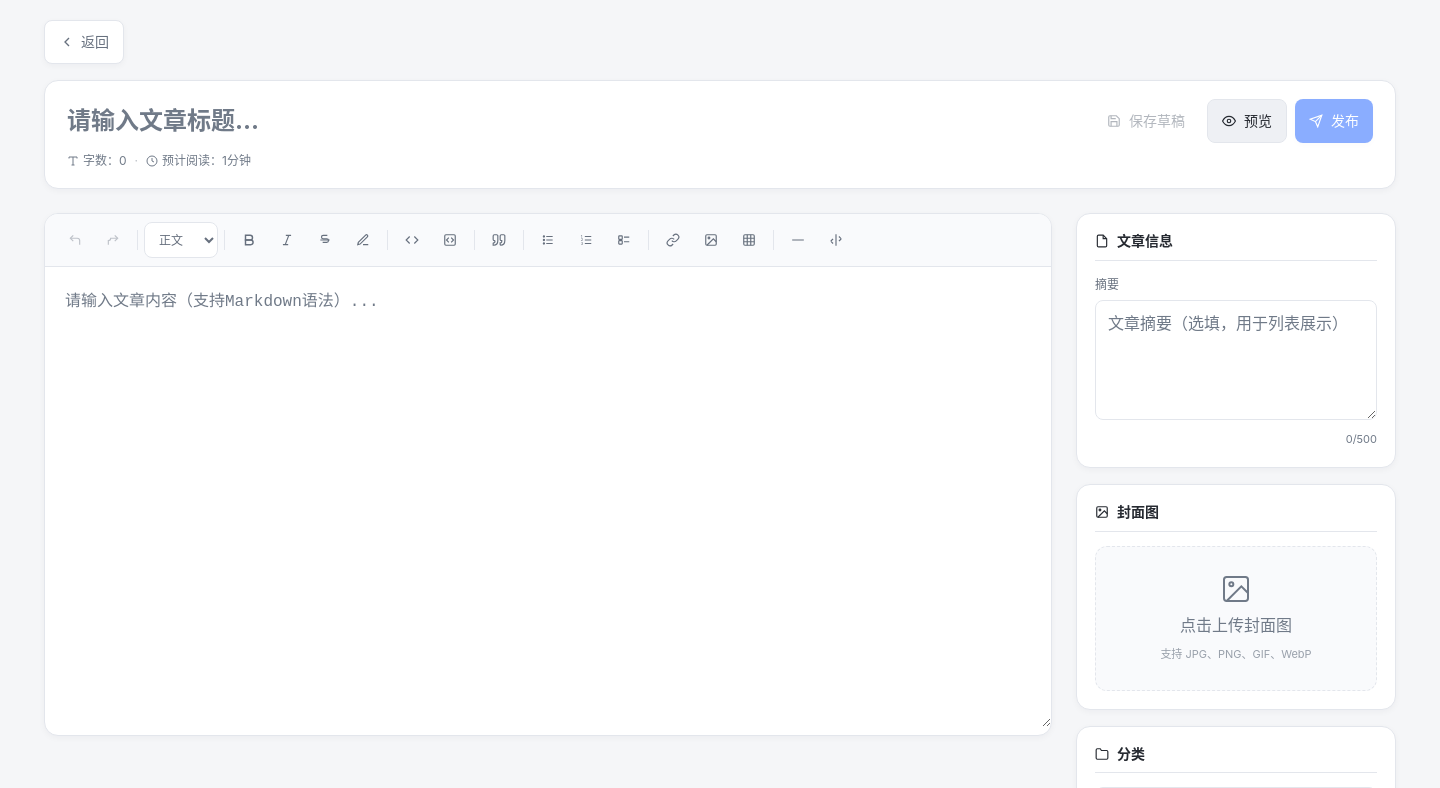
Test case: author editor smoke coverage › keeps the markdown editor, preview toggle and metadata geometry
Expected: the text box with class "content-input" is shown, [45,267,1051,727]
Expected: the element with class "toolbar" is shown, [45,214,1051,267]
Click the button "预览": click(1247, 121) [1207,99,1287,143]
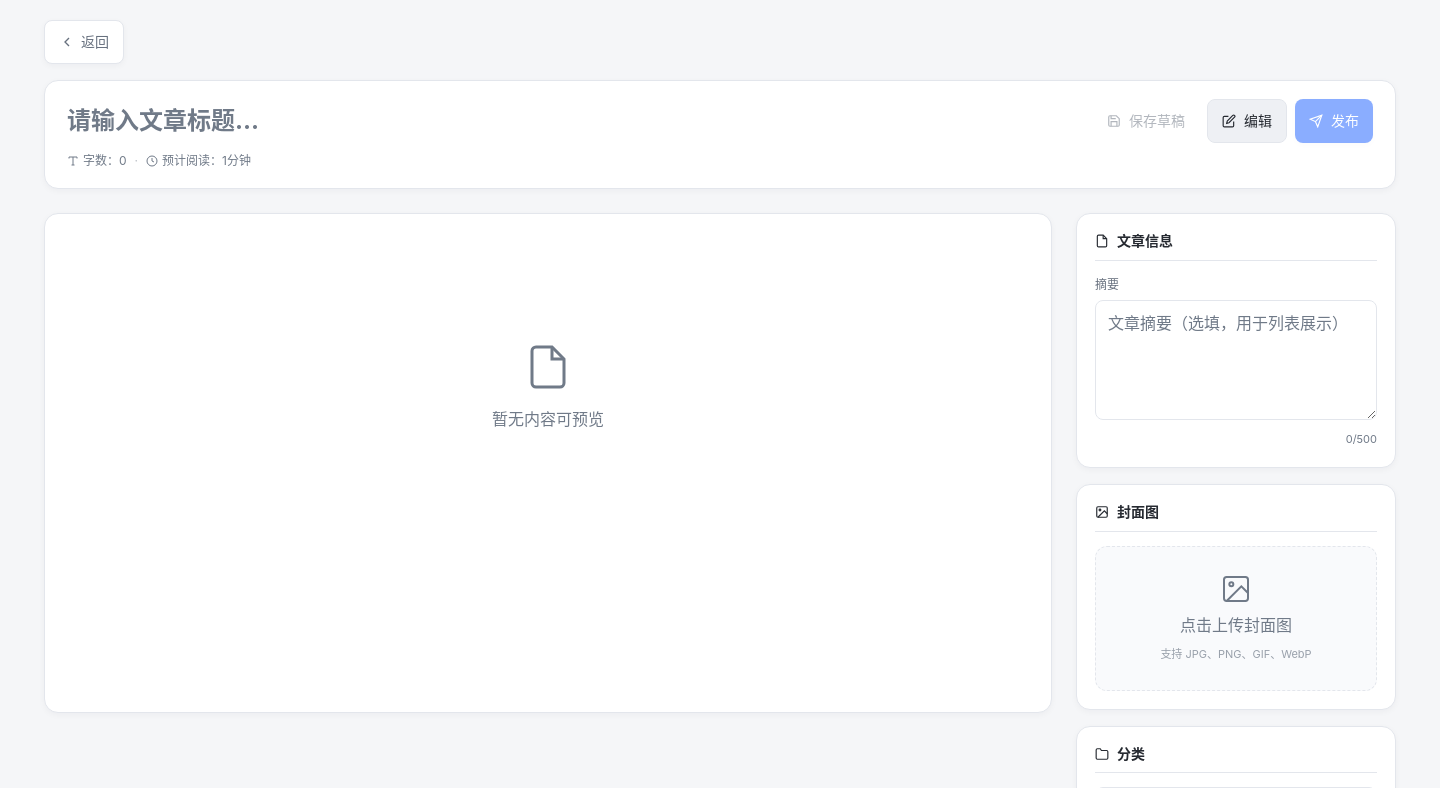
Now the element with class "editor-preview" is shown, box [492,343,604,429]
Click the button "编辑": click(1247, 121) [1207,99,1287,143]
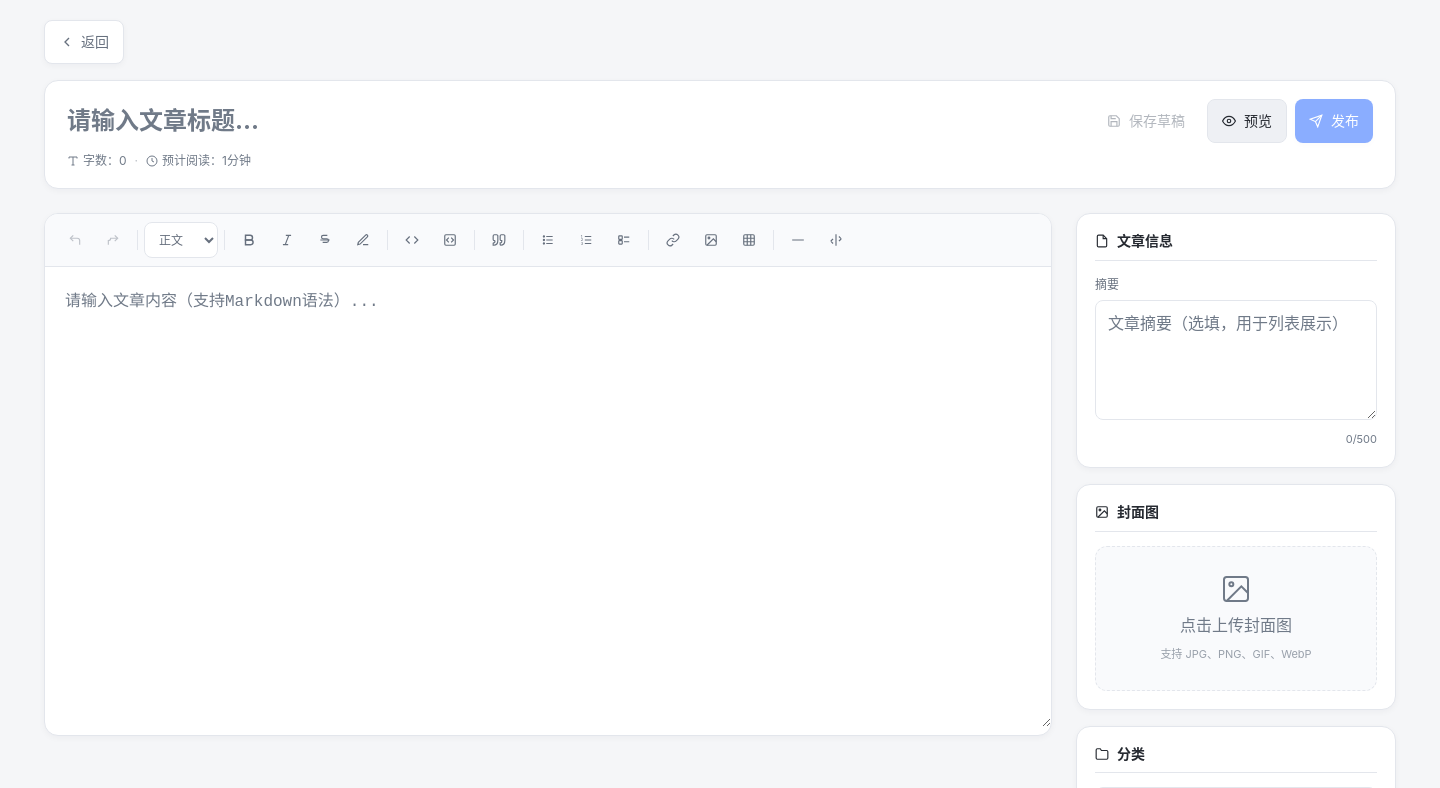
Expected: the text "字数" is shown, [83,153,127,168]
Now the text box with class "content-input" is shown, box [45,267,1051,727]
